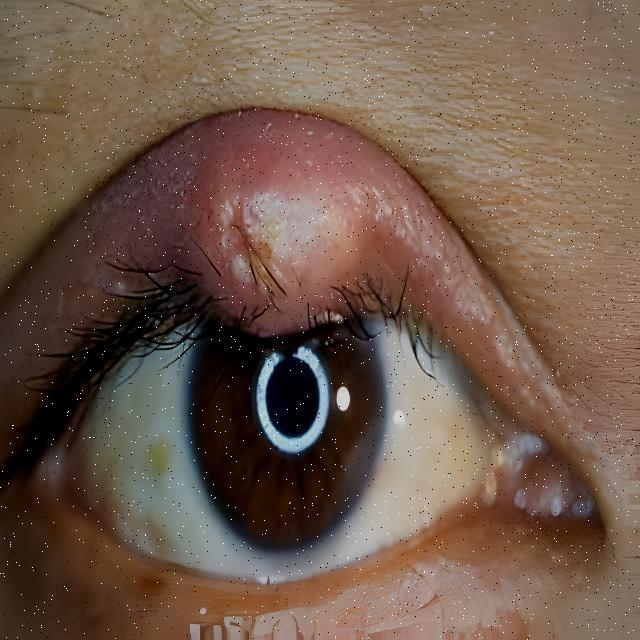Stye: (160, 95, 427, 397)
